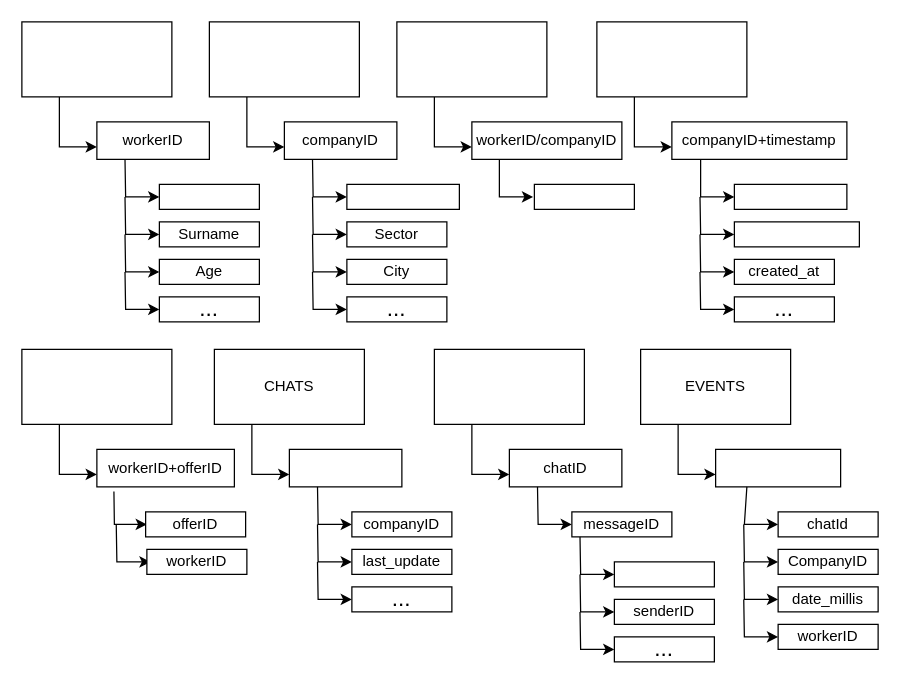
Image size: 900x685. Some labels were removed from this diagram. The shapes that lost their labels are listed below. From the top down, each one's centre as x and y in pixels, then its label:
(x=96, y=59): WORKERS
(x=283, y=59): COMPANIES
(x=471, y=59): USER SETTINGS
(x=671, y=59): OFFERS
(x=208, y=196): Name
(x=402, y=196): Company name
(x=583, y=196): user type
(x=790, y=196): Job description
(x=796, y=234): Languages required
(x=96, y=386): APPLICATIONS
(x=508, y=386): MESSAGES
(x=345, y=467): applicationID
(x=777, y=467): chatID+timestamp
(x=663, y=574): text
